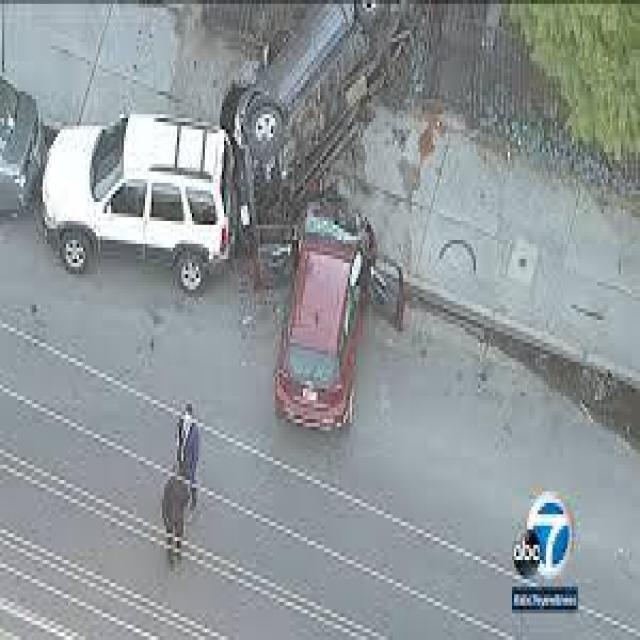severe: (220, 1, 420, 436)
